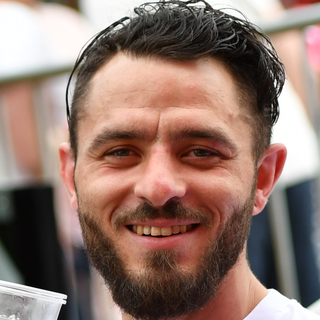eye: (178, 142, 229, 165), (95, 142, 143, 165)
